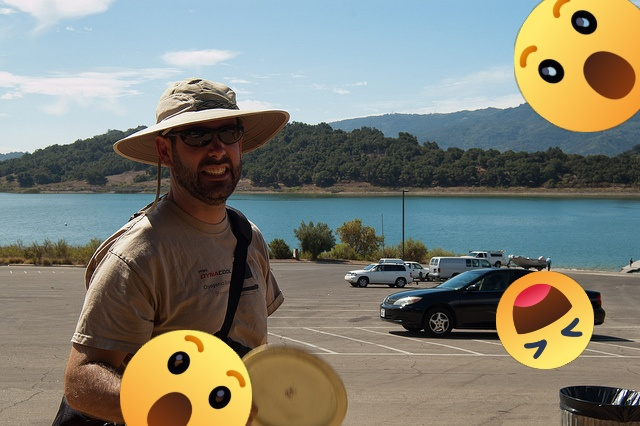haha: (496, 271, 594, 369)
wow: (514, 0, 640, 132), (120, 330, 252, 426)
